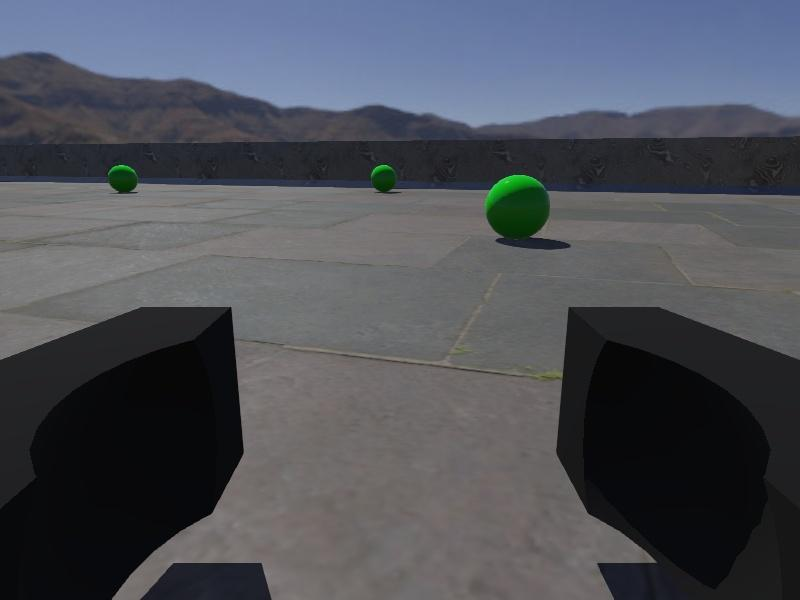green ball: (484, 174, 552, 240), (107, 164, 139, 194), (370, 164, 398, 193)
